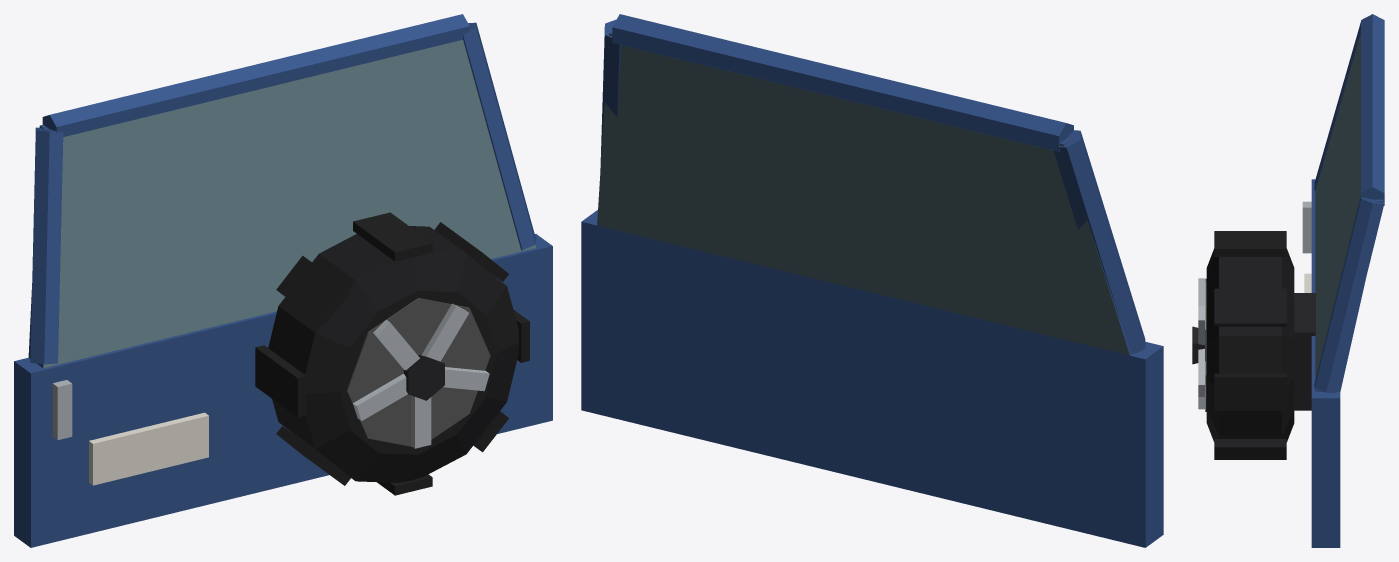
The model's file is car_tailgate_blue.glb.
3 views of the same model, side by side, from view 1: azimuth 30°, elevation 25°; view 2: azimuth 150°, elevation 25°; view 3: azimuth 270°, elevation 25° (orthographic). The views are drawn at different scales.
Parts seen in each view (by area): view 1: tailgate; view 2: tailgate; view 3: tailgate.
Part boxes in pixels (x1=…): tailgate: x1=14, y1=14, x2=552, y2=547; tailgate: x1=581, y1=14, x2=1163, y2=547; tailgate: x1=1192, y1=14, x2=1384, y2=547.
Size of the model in its own units: 1.44 by 1.04 by 0.5346.
Materials: 2 (2 with a texture image).
